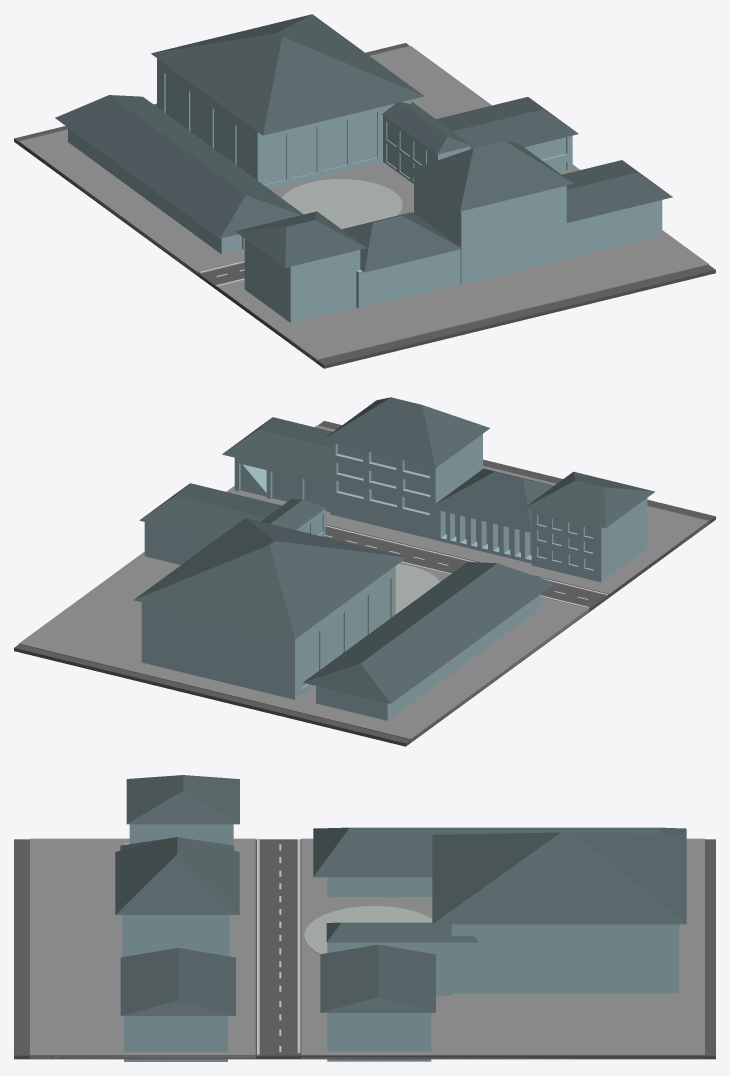
Rendered from plaza.fbx.
3 renders of one model, top to bottom at view 1: azimuth 30°, elevation 25°; view 2: azimuth 150°, elevation 25°; view 3: azimuth 270°, elevation 25°, orthographic. The views are drawn at different scales.
Parts seen in each view (by area): view 1: Cube.028, Cube.041, Cube.029, Cube.040, Cube.011, Cube.034, Cube.037, Cube.035, Cube, Cube.031, Cylinder, Cube.036 (+8 smaller); view 2: Cube.040, Cube.028, Cube.029, Cube.011, Cube.034, Cube, Cube.037, Cube.041, Cube.035, Cube.031, Cube.036, Cube.039 (+7 smaller); view 3: Cube.040, Cube.041, Cube.028, Cube, Cube.011, Cube.037, Cube.029, Cube.031, Cube.036, Cube.039, Cube.027, Cube.034 (+8 smaller).
Part boxes in pixels (x1,y1,x2,y2): Cube.028: [151, 14, 424, 135]; Cube.041: [217, 230, 708, 362]; Cube.029: [55, 95, 303, 238]; Cube.040: [19, 46, 579, 274]; Cube.011: [157, 58, 411, 189]; Cube.034: [414, 178, 566, 284]; Cube.037: [405, 140, 573, 211]; Cube.035: [244, 239, 360, 322]; Cube: [14, 43, 715, 368]; Cube.031: [436, 97, 578, 149]; Cylinder: [282, 179, 402, 229]; Cube.036: [562, 160, 672, 222]; Cube.040: [19, 552, 588, 741]; Cube.028: [133, 518, 406, 639]; Cube.029: [303, 562, 555, 703]; Cube.011: [141, 566, 395, 699]; Cube.034: [330, 434, 482, 539]; Cube: [14, 421, 715, 746]; Cube.037: [322, 397, 489, 468]; Cube.041: [226, 425, 708, 594]; Cube.035: [531, 498, 647, 582]; Cube.031: [139, 483, 281, 539]; Cube.036: [222, 417, 332, 480]; Cube.039: [523, 471, 654, 528]; Cube.040: [301, 838, 704, 1058]; Cube.041: [30, 838, 255, 1058]; Cube.028: [432, 832, 686, 924]; Cube: [14, 839, 715, 1059]; Cube.011: [451, 924, 679, 993]; Cube.037: [115, 837, 239, 914]; Cube.029: [313, 827, 686, 877]; Cube.031: [320, 944, 435, 1012]; Cube.036: [120, 948, 235, 1015]; Cube.039: [126, 775, 239, 824]; Cube.027: [327, 1013, 431, 1061]; Cube.034: [122, 915, 229, 957].
Bounding box in the file's own units: 4446 × 1363 × 6030.
